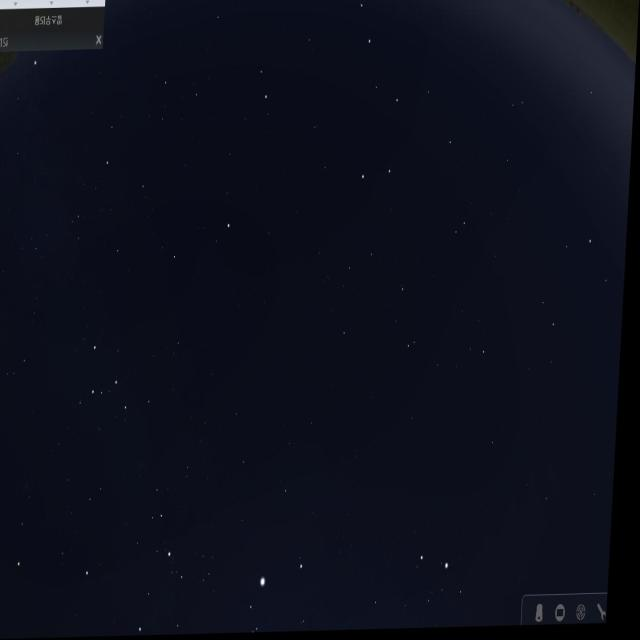ursa_major: (341, 0, 426, 197)
